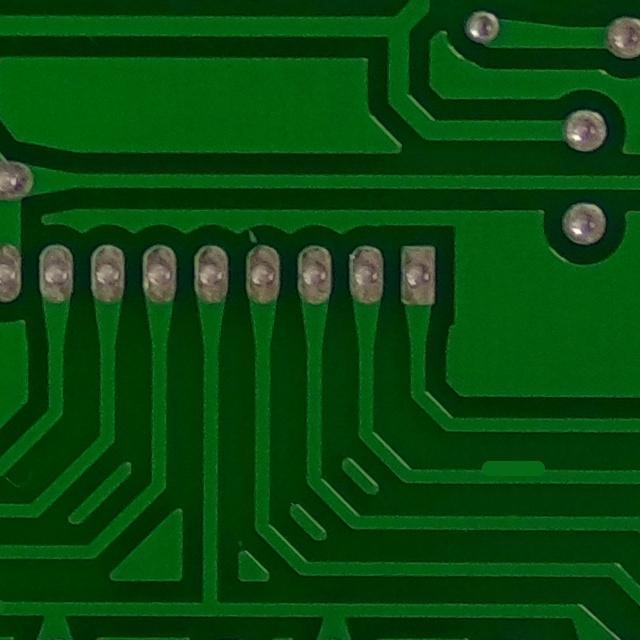spur: (473, 437, 551, 490)
